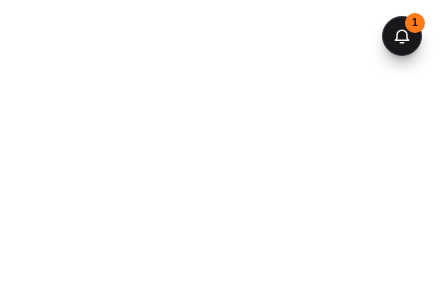
campana de notificaciones › muestra una etiqueta genérica para un módulo desconocido
Step 1. Click the button named "Notificaciones," → coordinates (402, 36), box [382,16,422,56]
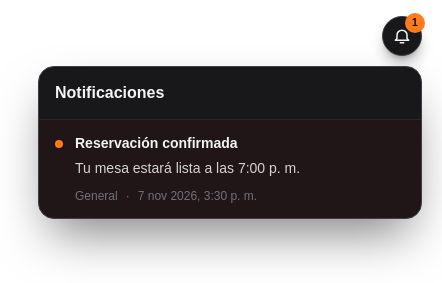
Now the text "General" is shown, box [75,188,118,204]
